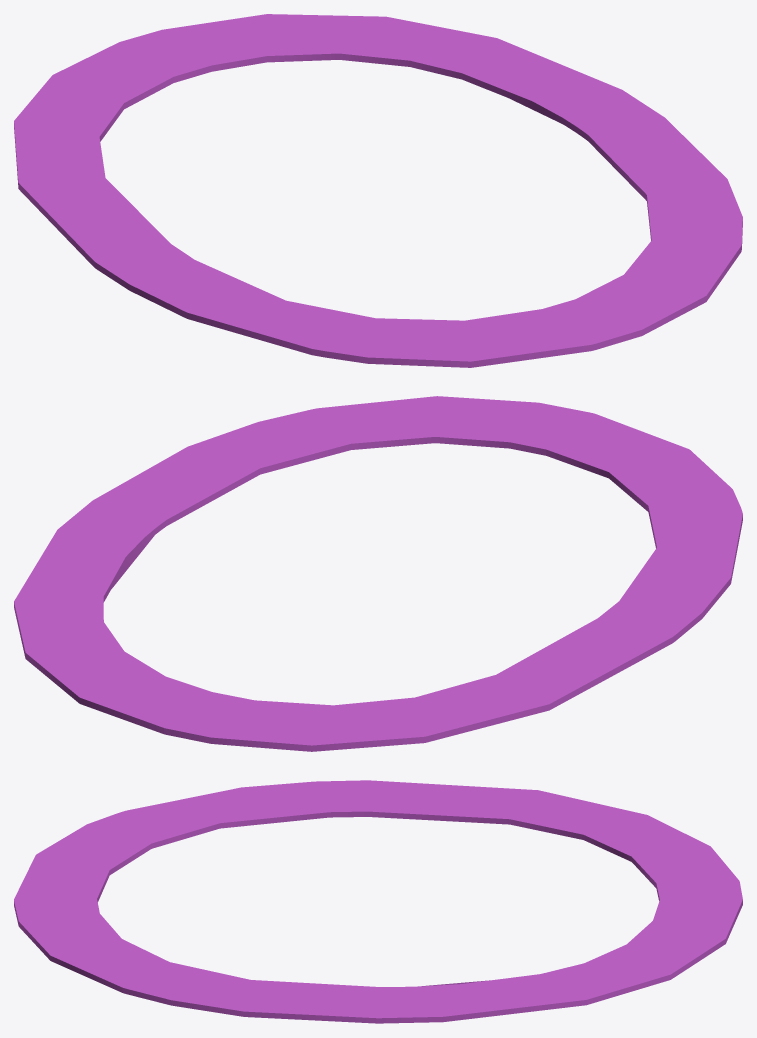
File: IMU_58.gltf
The picture shows the model from 3 angles, top to bottom: view 1: azimuth 30°, elevation 25°; view 2: azimuth 150°, elevation 25°; view 3: azimuth 270°, elevation 25°; orthographic projection. The views are drawn at different scales.
Visible parts, largest first — view 1: mesh8048, mesh8053, mesh8042, mesh8054, mesh8052, mesh8043, mesh8046, mesh8049; view 2: mesh8048, mesh8049, mesh8044, mesh8050, mesh8045, mesh8043; view 3: mesh8048, mesh8050, mesh8046, mesh8045, mesh8051, mesh8052.
Part boxes in pixels (left/top/right/bottom): mesh8048: left=14, top=14, right=742, bottom=361; mesh8053: left=312, top=345, right=591, bottom=367; mesh8042: left=211, top=53, right=461, bottom=79; mesh8054: left=94, top=262, right=311, bottom=354; mesh8052: left=591, top=246, right=741, bottom=350; mesh8043: left=461, top=73, right=587, bottom=140; mesh8046: left=99, top=65, right=211, bottom=141; mesh8049: left=14, top=123, right=94, bottom=267; mesh8048: left=14, top=396, right=742, bottom=745; mesh8049: left=164, top=637, right=672, bottom=751; mesh8044: left=167, top=437, right=546, bottom=525; mesh8050: left=14, top=602, right=164, bottom=733; mesh8045: left=546, top=449, right=656, bottom=548; mesh8043: left=103, top=520, right=166, bottom=602; mesh8048: left=14, top=780, right=742, bottom=1018; mesh8050: left=377, top=900, right=742, bottom=1023; mesh8046: left=368, top=811, right=659, bottom=900; mesh8045: left=97, top=811, right=367, bottom=902; mesh8051: left=122, top=988, right=377, bottom=1023; mesh8052: left=14, top=901, right=122, bottom=992.
Bounding box in the file's own units: 0.000951 × 1e-05 × 0.00123.
